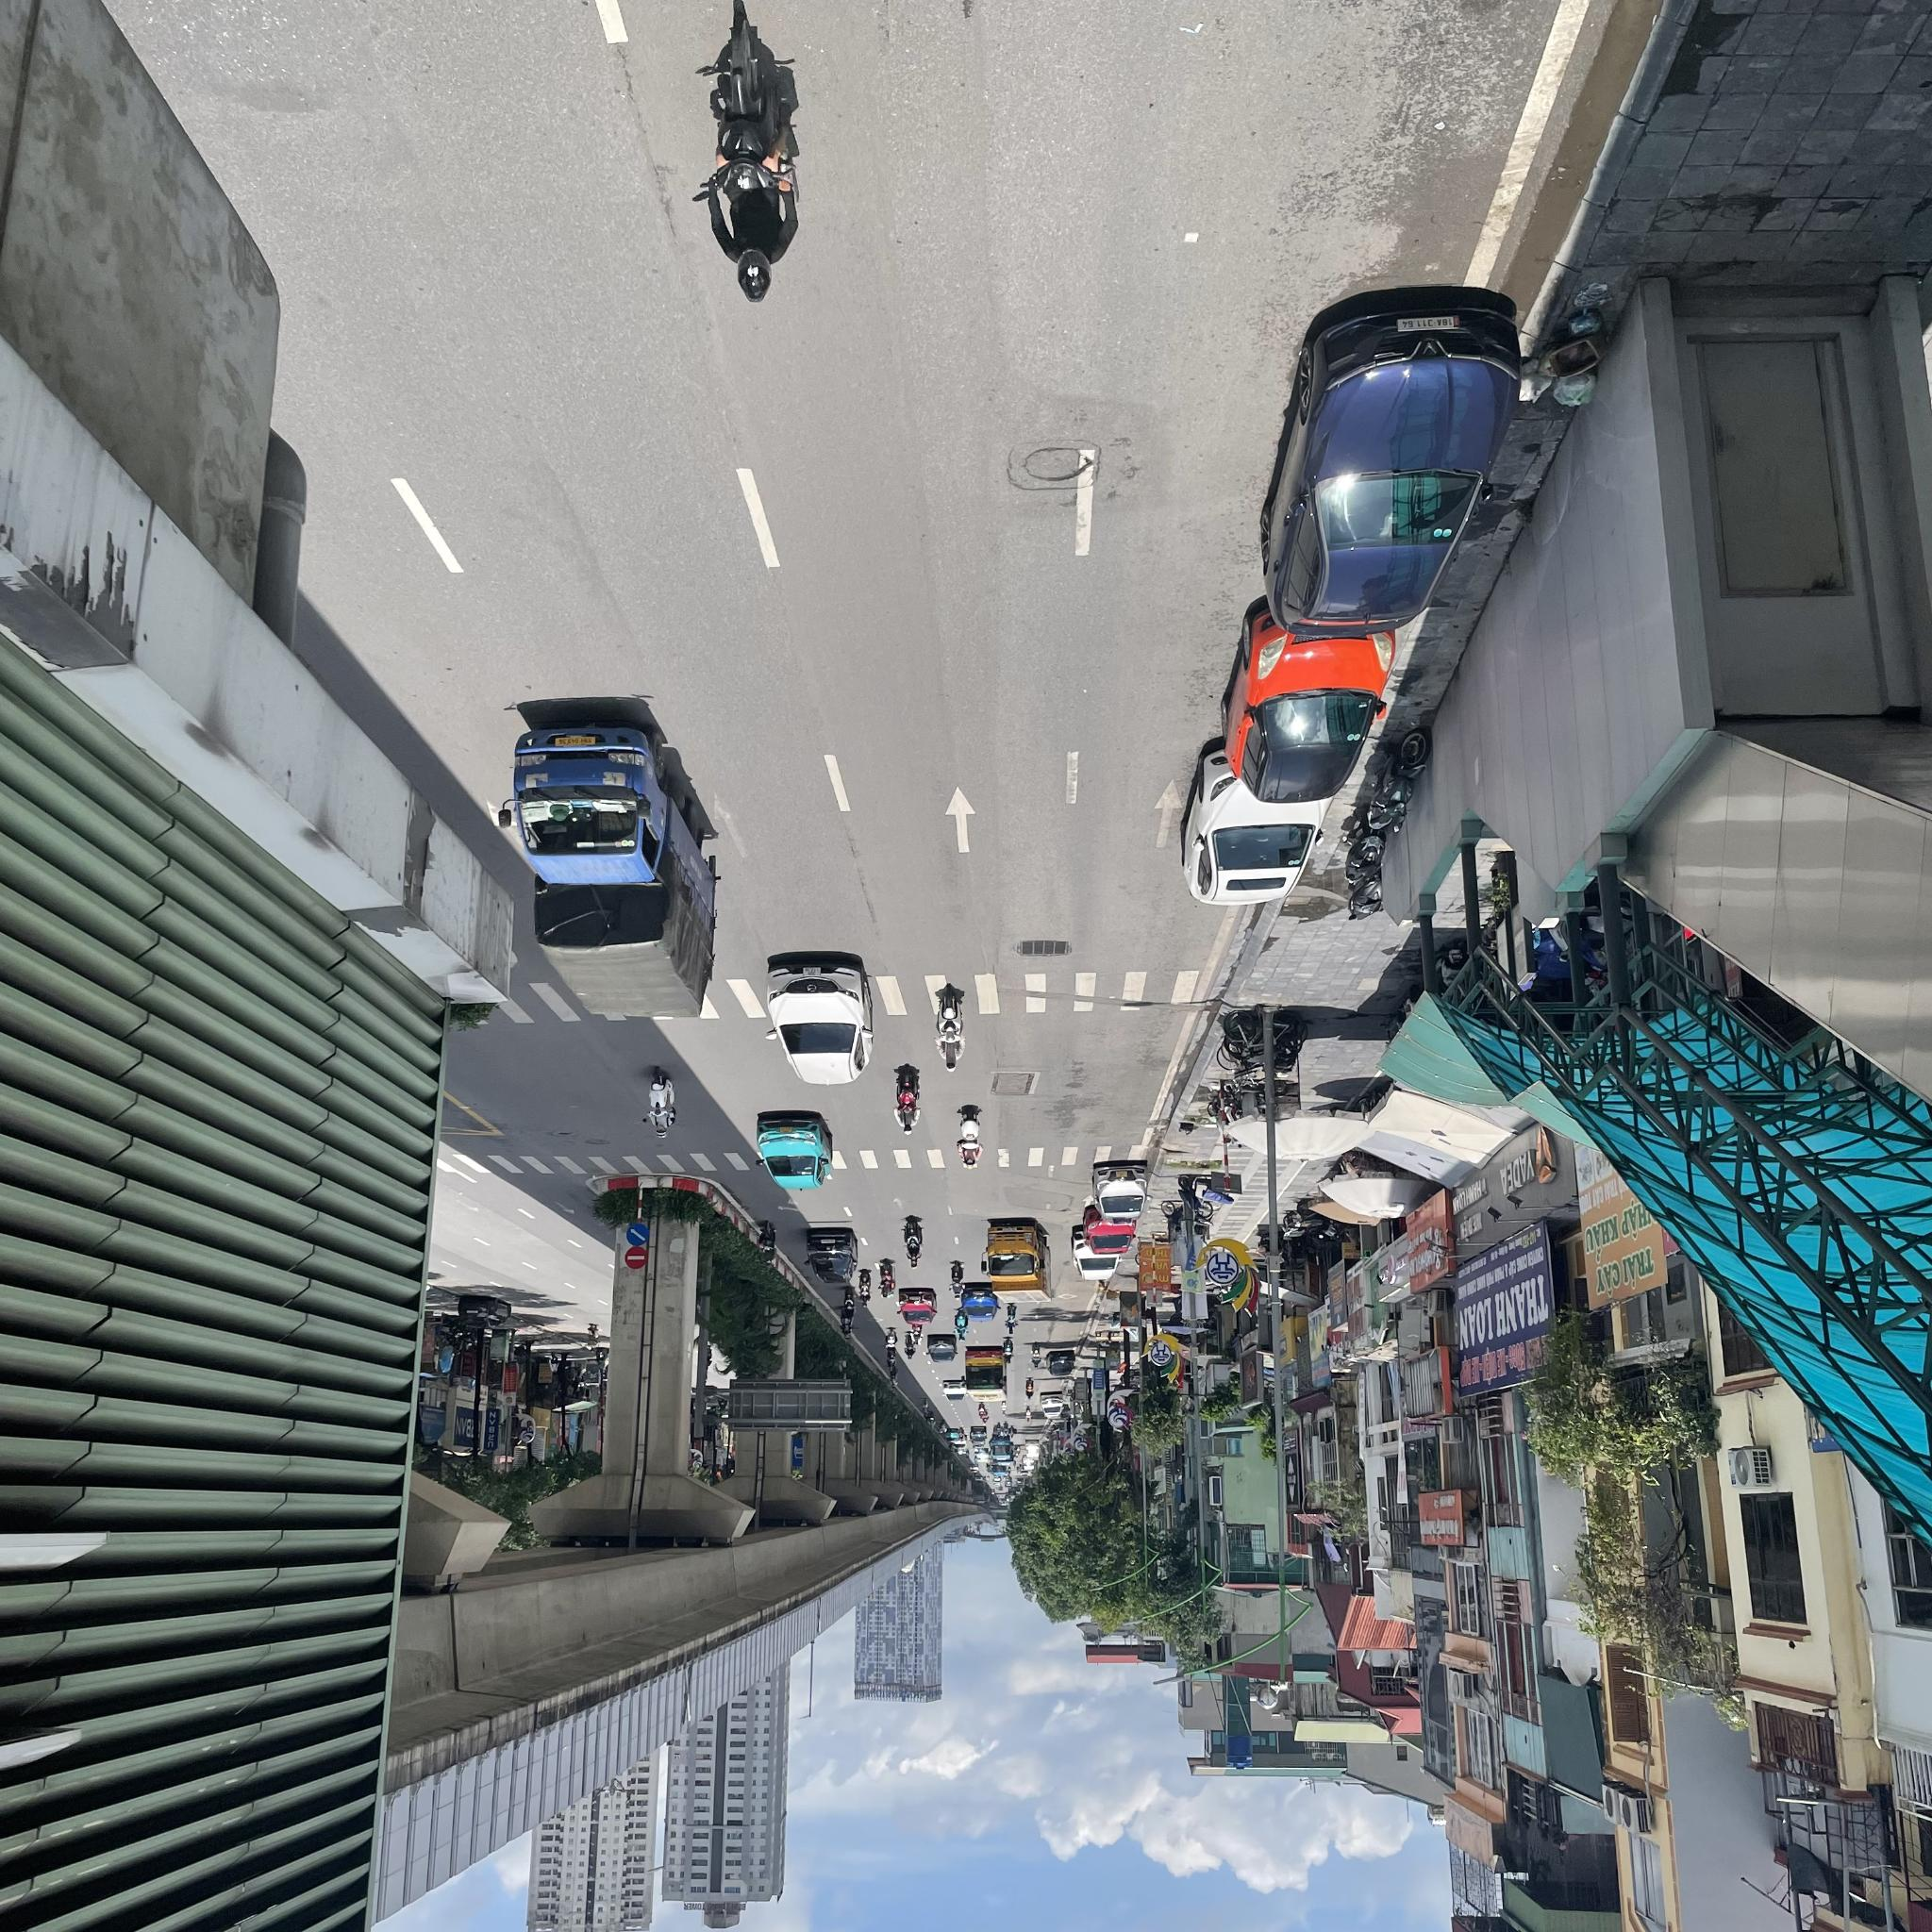car: (1242, 304, 1527, 644), (506, 704, 718, 1021), (1224, 602, 1391, 803), (1187, 747, 1325, 904), (761, 948, 878, 1088), (755, 1116, 833, 1189), (985, 1219, 1053, 1300), (1088, 1164, 1152, 1215), (801, 1226, 856, 1284), (1069, 1226, 1115, 1281), (961, 1350, 1007, 1401), (1083, 1208, 1132, 1254), (901, 1292, 938, 1323), (927, 1336, 957, 1364), (1046, 1352, 1076, 1376), (941, 1380, 968, 1401)
motobike: (688, 9, 809, 306), (934, 980, 964, 1076), (644, 1072, 676, 1141), (886, 1070, 922, 1129), (952, 1111, 982, 1168), (897, 1217, 925, 1267), (876, 1258, 897, 1297), (759, 1217, 775, 1267), (948, 1260, 962, 1300), (842, 1284, 856, 1320), (952, 1315, 970, 1341), (906, 1323, 925, 1346), (885, 1329, 897, 1361), (860, 1269, 870, 1304), (1028, 1341, 1042, 1368), (1005, 1302, 1016, 1334), (1001, 1339, 1014, 1366)
